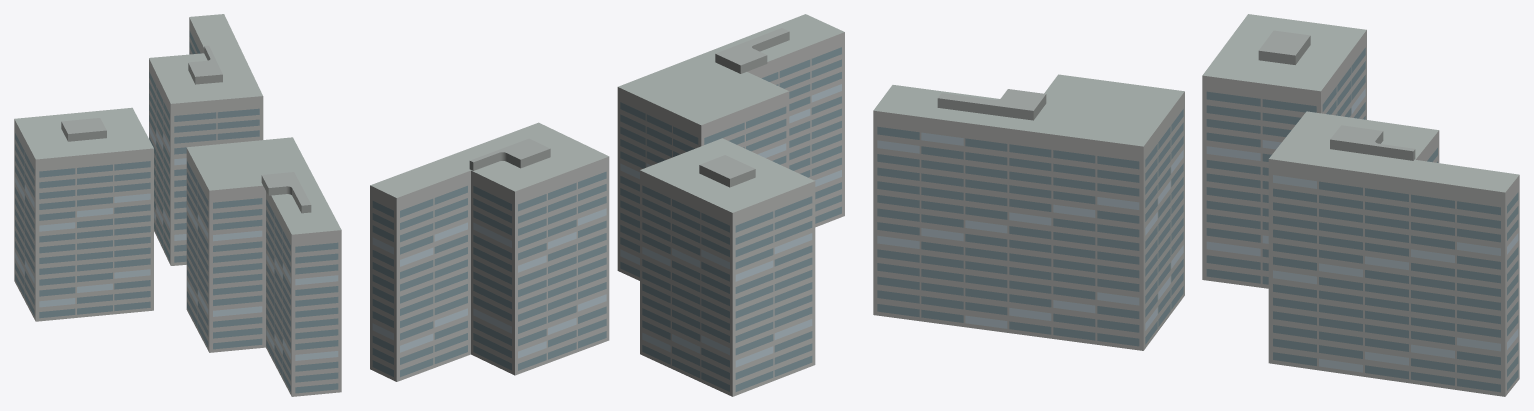
File: apt-a12177801.glb
3 renders of one model, left to right at view 1: azimuth 30°, elevation 25°; view 2: azimuth 150°, elevation 25°; view 3: azimuth 270°, elevation 25°, orthographic. The views are drawn at different scales.
Visible parts, largest first — view 1: apt-a12177801; view 2: apt-a12177801; view 3: apt-a12177801.
Boxes of the visible parts, <box> form: apt-a12177801: <box>14,14,341,396</box>; apt-a12177801: <box>370,14,844,396</box>; apt-a12177801: <box>873,14,1519,396</box>.
Bounding box in the file's own units: 78.73 × 44 × 120.
